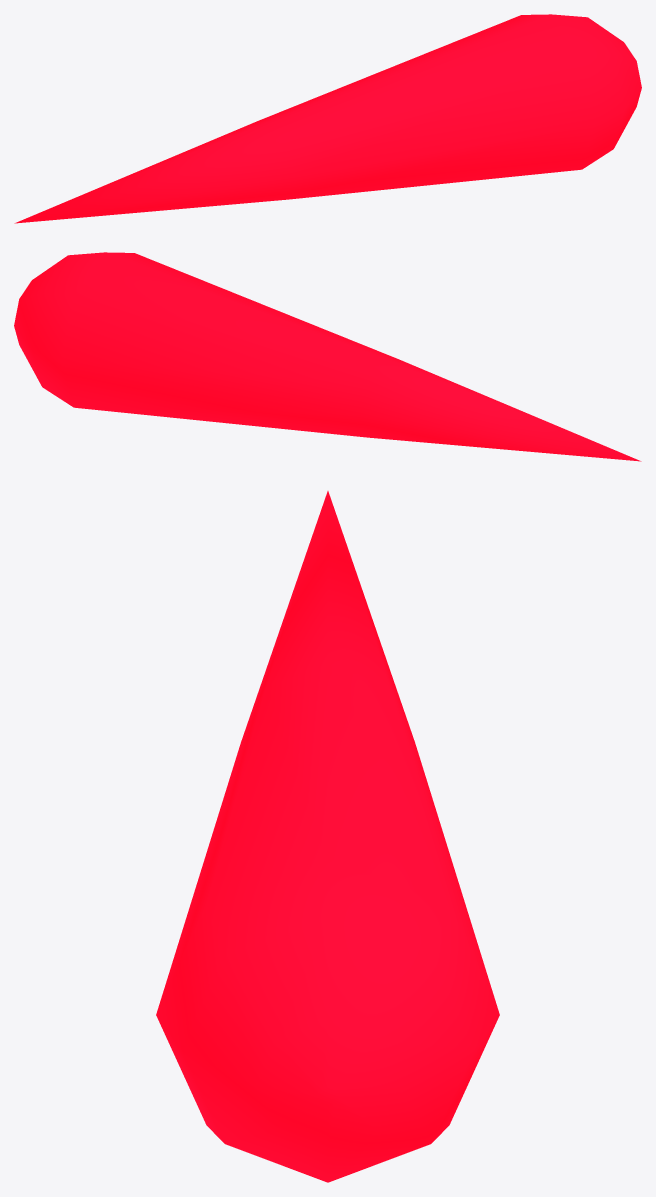
The model's file is Plasmabolt-v01.glb.
3 renders of one model, top to bottom at view 1: azimuth 30°, elevation 25°; view 2: azimuth 150°, elevation 25°; view 3: azimuth 270°, elevation 25°, orthographic. The views are drawn at different scales.
Visible parts, largest first — view 1: Cylinder; view 2: Cylinder; view 3: Cylinder.
Boxes of the visible parts, x1=… form: Cylinder: x1=14, y1=14, x2=641, y2=223; Cylinder: x1=14, y1=252, x2=641, y2=461; Cylinder: x1=156, y1=491, x2=499, y2=1182.
Size of the model in its own units: 0.6 by 0.144 by 0.144.
